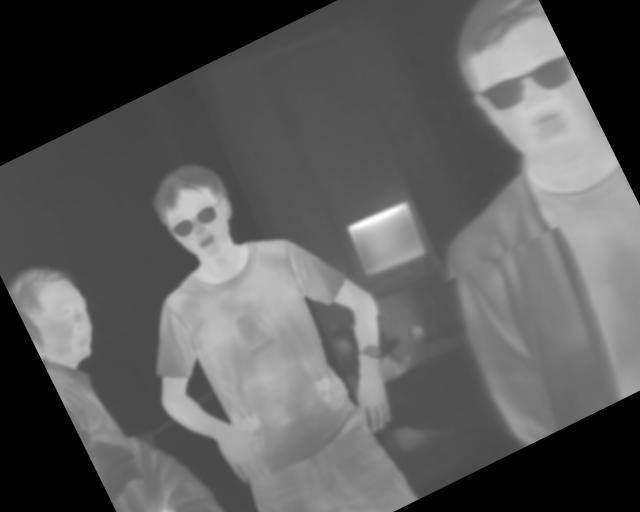face: (430, 1, 607, 185), (142, 151, 250, 272)
